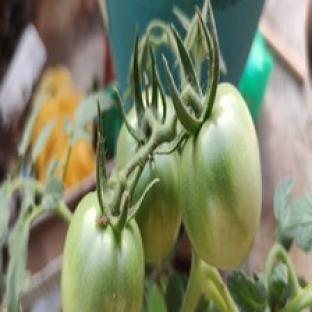Tomato: (180, 84, 261, 268), (62, 193, 144, 311), (133, 152, 181, 263)
